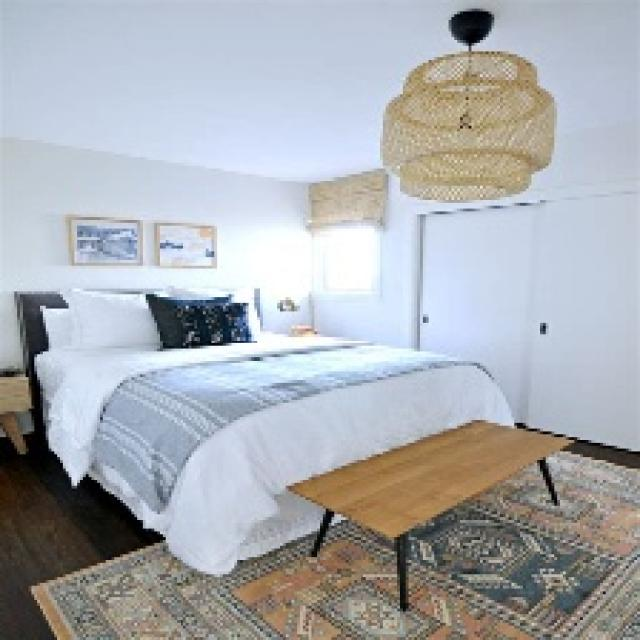Bed: (12, 283, 514, 574)
